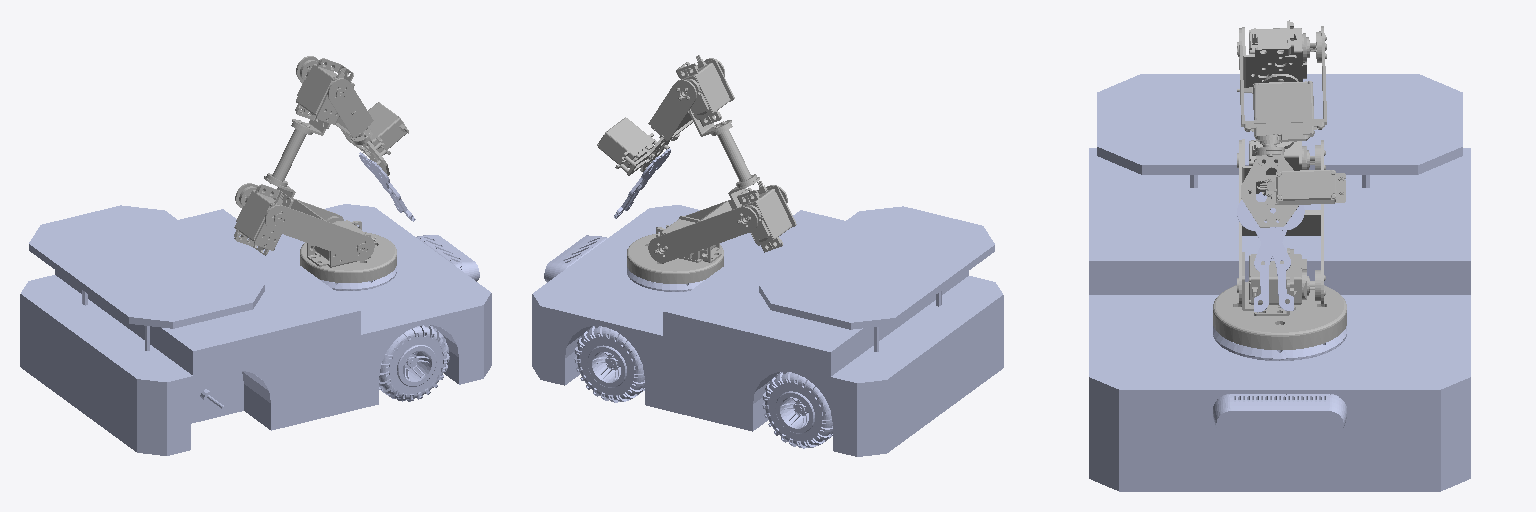
robot.urdf — robot_description:
<?xml version="1.0" encoding="utf-8"?>
<!-- This URDF was automatically created by SolidWorks to URDF Exporter! Originally created by [author] ([email redacted]) 
     Commit Version: 1.6.0-1-g15f4949  Build Version: 1.6.7594.29634
     For more information, please see http://wiki.ros.org/sw_urdf_exporter -->
<robot
  name="robot_description">
  <link
    name="dummy">
    <visual>
      <origin
        xyz="0 0 0"
        rpy="0 0 0" />
      <geometry>
        <mesh
          filename="package://robot_description/meshes/dummy.STL" />
      </geometry>
      <material
        name="">
        <color
          rgba="0.79216 0.81961 0.93333 1" />
      </material>
    </visual>
    <collision>
      <origin
        xyz="0 0 0"
        rpy="0 0 0" />
      <geometry>
        <mesh
          filename="package://robot_description/meshes/dummy.STL" />
      </geometry>
    </collision>
  </link>
  <link
    name="base_link">
    <inertial>
      <origin
        xyz="0.094802 0.023476 0.089613"
        rpy="0 0 0" />
      <mass
        value="0.041621" />
      <inertia
        ixx="2.1209E-05"
        ixy="-1.3206E-10"
        ixz="2.5764E-10"
        iyy="2.3001E-05"
        iyz="8.8145E-09"
        izz="4.3695E-05" />
    </inertial>
    <visual>
      <origin
        xyz="0 0 0"
        rpy="0 0 0" />
      <geometry>
        <mesh
          filename="package://robot_description/meshes/base_link.STL" />
      </geometry>
      <material
        name="">
        <color
          rgba="0.79216 0.81961 0.93333 1" />
      </material>
    </visual>
    <collision>
      <origin
        xyz="0 0 0"
        rpy="0 0 0" />
      <geometry>
        <mesh
          filename="package://robot_description/meshes/base_link.STL" />
      </geometry>
    </collision>
  </link>
  <joint
    name="dummy"
    type="fixed">
    <origin
      xyz="0 0 0"
      rpy="0 0 0" />
    <parent
      link="dummy" />
    <child
      link="base_link" />
    <axis
      xyz="0 0 0" />
  </joint>
  <link
    name="link_1">
    <inertial>
      <origin
        xyz="-0.006455 -0.0026486 0.016101"
        rpy="0 0 0" />
      <mass
        value="0.079808" />
      <inertia
        ixx="2.4245E-05"
        ixy="-3.9646E-08"
        ixz="1.7004E-09"
        iyy="2.9109E-05"
        iyz="4.4379E-07"
        izz="4.9332E-05" />
    </inertial>
    <visual>
      <origin
        xyz="0 0 0"
        rpy="0 0 0" />
      <geometry>
        <mesh
          filename="package://robot_description/meshes/link_1.STL" />
      </geometry>
      <material
        name="">
        <color
          rgba="0.75294 0.75294 0.75294 1" />
      </material>
    </visual>
    <collision>
      <origin
        xyz="0 0 0"
        rpy="0 0 0" />
      <geometry>
        <mesh
          filename="package://robot_description/meshes/link_1.STL" />
      </geometry>
    </collision>
  </link>
  <joint
    name="joint_0"
    type="revolute">
    <origin
      xyz="0.094802 0.02178 0.094485"
      rpy="0 0 0" />
    <parent
      link="base_link" />
    <child
      link="link_1" />
    <axis
      xyz="0 0 1" />
    <limit
      lower="-4.1888"
      upper="0.69813"
      effort="0"
      velocity="0" />
  </joint>
  <link
    name="link_2">
    <inertial>
      <origin
        xyz="-0.0441672955930066 -0.0254999999999995 0.00196123940117489"
        rpy="0 0 0" />
      <mass
        value="0.04759938537894" />
      <inertia
        ixx="3.33319565488529E-05"
        ixy="-6.9117387543481E-06"
        ixz="-2.96183751814742E-21"
        iyy="4.13129450096359E-05"
        iyz="2.78246571699322E-20"
        izz="2.0881605962112E-05" />
    </inertial>
    <visual>
      <origin
        xyz="0 0 0"
        rpy="0 0 0" />
      <geometry>
        <mesh
          filename="package://robot_description/meshes/link_2.STL" />
      </geometry>
      <material
        name="">
        <color
          rgba="0.752941176470588 0.752941176470588 0.752941176470588 1" />
      </material>
    </visual>
    <collision>
      <origin
        xyz="0 0 0"
        rpy="0 0 0" />
      <geometry>
        <mesh
          filename="package://robot_description/meshes/link_2.STL" />
      </geometry>
    </collision>
  </link>
  <joint
    name="joint_1"
    type="revolute">
    <origin
      xyz="-0.0017545 0 0.0249"
      rpy="-1.5708 0 0" />
    <parent
      link="link_1" />
    <child
      link="link_2" />
    <axis
      xyz="0 0 1" />
    <limit
      lower="-0.17453"
      upper="1.7453"
      effort="0"
      velocity="0" />
  </joint>
  <link
    name="link_3">
    <inertial>
      <origin
        xyz="0.0554376610188381 0.00312319498710001 -0.00374536272571629"
        rpy="0 0 0" />
      <mass
        value="0.111344912824329" />
      <inertia
        ixx="1.09688048932566E-05"
        ixy="-1.78460277050349E-09"
        ixz="-9.02393554790872E-08"
        iyy="2.46157246976635E-05"
        iyz="-8.55982045464642E-07"
        izz="2.27017675785582E-05" />
    </inertial>
    <visual>
      <origin
        xyz="0 0 0"
        rpy="0 0 0" />
      <geometry>
        <mesh
          filename="package://robot_description/meshes/link_3.STL" />
      </geometry>
      <material
        name="">
        <color
          rgba="0.752941176470588 0.752941176470588 0.752941176470588 1" />
      </material>
    </visual>
    <collision>
      <origin
        xyz="0 0 0"
        rpy="0 0 0" />
      <geometry>
        <mesh
          filename="package://robot_description/meshes/link_3.STL" />
      </geometry>
    </collision>
  </link>
  <joint
    name="joint_2"
    type="revolute">
    <origin
      xyz="-0.088335 -0.051 0"
      rpy="0 0 -1.0472" />
    <parent
      link="link_2" />
    <child
      link="link_3" />
    <axis
      xyz="0 0 1" />
    <limit
      lower="-1.5"
      upper="1.12"
      effort="0"
      velocity="0" />
  </joint>
  <link
    name="link_4">
    <inertial>
      <origin
        xyz="-0.0176379229960773 0.0305437128442724 0.00159557678617681"
        rpy="0 0 0" />
      <mass
        value="0.0508687992629349" />
      <inertia
        ixx="2.36967919956933E-05"
        ixy="2.48979389762864E-06"
        ixz="-1.97394708975074E-08"
        iyy="2.08307216385514E-05"
        iyz="3.41880636763051E-08"
        izz="9.91099451712242E-06" />
    </inertial>
    <visual>
      <origin
        xyz="0 0 0"
        rpy="0 0 0" />
      <geometry>
        <mesh
          filename="package://robot_description/meshes/link_4.STL" />
      </geometry>
      <material
        name="">
        <color
          rgba="0.752941176470588 0.752941176470588 0.752941176470588 1" />
      </material>
    </visual>
    <collision>
      <origin
        xyz="0 0 0"
        rpy="0 0 0" />
      <geometry>
        <mesh
          filename="package://robot_description/meshes/link_4.STL" />
      </geometry>
    </collision>
  </link>
  <joint
    name="joint_3"
    type="revolute">
    <origin
      xyz="0.13051 0 0"
      rpy="0.033013 0 0" />
    <parent
      link="link_3" />
    <child
      link="link_4" />
    <axis
      xyz="0 0 1" />
    <limit
      lower="-2.5"
      upper="0.17"
      effort="0"
      velocity="0" />
  </joint>
  <link
    name="link_5">
    <inertial>
      <origin
        xyz="0.000145826433482737 0.00572759346298343 0.0249754325019977"
        rpy="0 0 0" />
      <mass
        value="0.0397478662209852" />
      <inertia
        ixx="4.82308554751759E-06"
        ixy="-5.41076945991279E-08"
        ixz="-2.14243371035978E-06"
        iyy="6.53212892558204E-06"
        iyz="4.8597350438789E-07"
        izz="4.2080310033455E-06" />
    </inertial>
    <visual>
      <origin
        xyz="0 0 0"
        rpy="0 0 0" />
      <geometry>
        <mesh
          filename="package://robot_description/meshes/link_5.STL" />
      </geometry>
      <material
        name="">
        <color
          rgba="0.752941176470588 0.752941176470588 0.752941176470588 1" />
      </material>
    </visual>
    <collision>
      <origin
        xyz="0 0 0"
        rpy="0 0 0" />
      <geometry>
        <mesh
          filename="package://robot_description/meshes/link_5.STL" />
      </geometry>
    </collision>
  </link>
  <joint
    name="joint_4"
    type="revolute">
    <origin
      xyz="-0.043854 0.075958 -0.008714"
      rpy="-0.11661 -0.71223 -1.8407" />
    <parent
      link="link_4" />
    <child
      link="link_5" />
    <axis
      xyz="0.53086 0.7613 -0.37231" />
    <limit
      lower="-0.1"
      upper="0.1"
      effort="0"
      velocity="0" />
  </joint>
  <link
    name="link_51">
    <inertial>
      <origin
        xyz="0.0274973854492597 0.00666645635188887 -0.00274999999999825"
        rpy="0 0 0" />
      <mass
        value="0.00141569349834304" />
      <inertia
        ixx="2.12882327783662E-07"
        ixy="-2.23055006855443E-08"
        ixz="-7.42187804613204E-22"
        iyy="4.99683964313318E-08"
        iyz="-4.00355416475665E-22"
        izz="2.61906928549432E-07" />
    </inertial>
    <visual>
      <origin
        xyz="0 0 0"
        rpy="0 0 0" />
      <geometry>
        <mesh
          filename="package://robot_description/meshes/link_51.STL" />
      </geometry>
      <material
        name="">
        <color
          rgba="0.792156862745098 0.819607843137255 0.933333333333333 1" />
      </material>
    </visual>
    <collision>
      <origin
        xyz="0 0 0"
        rpy="0 0 0" />
      <geometry>
        <mesh
          filename="package://robot_description/meshes/link_51.STL" />
      </geometry>
    </collision>
  </link>
  <joint
    name="joint_5"
    type="revolute">
    <origin
      xyz="0.0061729 -0.0095263 0.010922"
      rpy="0.60214 0.85354 3.0106" />
    <parent
      link="link_5" />
    <child
      link="link_51" />
    <axis
      xyz="0 0 1" />
    <limit
      lower="0.1"
      upper="0.92"
      effort="0"
      velocity="0" />
  </joint>
  <link
    name="link_52">
    <inertial>
      <origin
        xyz="0.0273537886684804 0.0226207279404789 0.00150000000000955"
        rpy="0 0 0" />
      <mass
        value="0.00148390327012937" />
      <inertia
        ixx="4.30795368940953E-07"
        ixy="8.24295843502233E-08"
        ixz="-5.36426627240638E-22"
        iyy="3.23578805228052E-08"
        iyz="1.86363792008197E-21"
        izz="4.60927394558564E-07" />
    </inertial>
    <visual>
      <origin
        xyz="0 0 0"
        rpy="0 0 0" />
      <geometry>
        <mesh
          filename="package://robot_description/meshes/link_52.STL" />
      </geometry>
      <material
        name="">
        <color
          rgba="0.792156862745098 0.819607843137255 0.933333333333333 1" />
      </material>
    </visual>
    <collision>
      <origin
        xyz="0 0 0"
        rpy="0 0 0" />
      <geometry>
        <mesh
          filename="package://robot_description/meshes/link_52.STL" />
      </geometry>
    </collision>
  </link>
  <joint
    name="joint_51"
    type="revolute">
    <origin
      xyz="-0.0036089 0.030839 -0.00175"
      rpy="0 0 0" />
    <parent
      link="link_51" />
    <child
      link="link_52" />
    <axis
      xyz="0 0 -1" />
    <limit
      lower="0.1"
      upper="0.92"
      effort="0"
      velocity="0" />
    <mimic
      joint="joint_5"
      multiplier="1"
      offset="0" />
  </joint>
  <link
    name="link_53">
    <inertial>
      <origin
        xyz="-0.0275517174404179 0.00686942071701245 -0.0010000000000093"
        rpy="0 0 0" />
      <mass
        value="0.00137328199751958" />
      <inertia
        ixx="2.10770882639421E-07"
        ixy="2.30360067045727E-08"
        ixz="-1.54682774547416E-22"
        iyy="5.00701284621878E-08"
        iyz="9.42985898310452E-22"
        izz="2.59925489769929E-07" />
    </inertial>
    <visual>
      <origin
        xyz="0 0 0"
        rpy="0 0 0" />
      <geometry>
        <mesh
          filename="package://robot_description/meshes/link_53.STL" />
      </geometry>
      <material
        name="">
        <color
          rgba="0.792156862745098 0.819607843137255 0.933333333333333 1" />
      </material>
    </visual>
    <collision>
      <origin
        xyz="0 0 0"
        rpy="0 0 0" />
      <geometry>
        <mesh
          filename="package://robot_description/meshes/link_53.STL" />
      </geometry>
    </collision>
  </link>
  <joint
    name="joint_53"
    type="revolute">
    <origin
      xyz="-0.0105213588774655 -0.00832612259373461 -0.0104276575228075"
      rpy="0.602136293756852 0.853540316865174 3.01057033246525" />
    <parent
      link="link_5" />
    <child
      link="link_53" />
    <axis
      xyz="0 0 -1" />
    <limit
      lower="0.1"
      upper="0.92"
      effort="0"
      velocity="0" />
    <mimic
      joint="joint_5"
      multiplier="1"
      offset="0" />
  </joint>
  <link
    name="link_54">
    <inertial>
      <origin
        xyz="-0.027579568289924 0.0226489633076726 0.00149999999999034"
        rpy="0 0 0" />
      <mass
        value="0.00148390327012937" />
      <inertia
        ixx="4.32400053087531E-07"
        ixy="-7.84391167968696E-08"
        ixz="-5.04580173657347E-23"
        iyy="3.07531963762263E-08"
        iyz="-1.24077091882954E-23"
        izz="4.60927394558563E-07" />
    </inertial>
    <visual>
      <origin
        xyz="0 0 0"
        rpy="0 0 0" />
      <geometry>
        <mesh
          filename="package://robot_description/meshes/link_54.STL" />
      </geometry>
      <material
        name="">
        <color
          rgba="0.792156862745098 0.819607843137255 0.933333333333333 1" />
      </material>
    </visual>
    <collision>
      <origin
        xyz="0 0 0"
        rpy="0 0 0" />
      <geometry>
        <mesh
          filename="package://robot_description/meshes/link_54.STL" />
      </geometry>
    </collision>
  </link>
  <joint
    name="joint_54"
    type="revolute">
    <origin
      xyz="0.00344200446641575 0.0308579332581169 0"
      rpy="0 0 0" />
    <parent
      link="link_53" />
    <child
      link="link_54" />
    <axis
      xyz="0 0 1" />
    <limit
      lower="0.1"
      upper="0.92"
      effort="0"
      velocity="0" />
    <mimic
      joint="joint_5"
      multiplier="1"
      offset="0" />
  </joint>
  <link
    name="wh_fl">
    <inertial>
      <origin
        xyz="1.2461E-09 -5.444E-09 -0.020213"
        rpy="0 0 0" />
      <mass
        value="0.072755" />
      <inertia
        ixx="4.1437E-05"
        ixy="2.2475E-13"
        ixz="-5.4568E-11"
        iyy="4.1437E-05"
        iyz="3.9178E-11"
        izz="6.0865E-05" />
    </inertial>
    <visual>
      <origin
        xyz="0 0 0"
        rpy="0 0 0" />
      <geometry>
        <mesh
          filename="package://robot_description/meshes/wh_fl.STL" />
      </geometry>
      <material
        name="">
        <color
          rgba="0.79216 0.81961 0.93333 1" />
      </material>
    </visual>
    <collision>
      <origin
        xyz="0 0 0"
        rpy="0 0 0" />
      <geometry>
        <mesh
          filename="package://robot_description/meshes/wh_fl.STL" />
      </geometry>
    </collision>
  </link>
  <joint
    name="joint_fl"
    type="continuous">
    <origin
      xyz="0.0963024280776692 0.105267807682509 0.0379849148150617"
      rpy="1.5707963267949 1.5707963267949 0" />
    <parent
      link="base_link" />
    <child
      link="wh_fl" />
    <axis
      xyz="0 0 1" />
  </joint>
  <link
    name="wh_fr">
    <inertial>
      <origin
        xyz="1.24612446750216E-09 5.44468690966138E-09 0.0202134707623578"
        rpy="0 0 0" />
      <mass
        value="0.0727548969707371" />
      <inertia
        ixx="4.14370643466436E-05"
        ixy="-2.24304743032627E-13"
        ixz="5.4568370513912E-11"
        iyy="4.1437065416982E-05"
        iyz="3.91778084305756E-11"
        izz="6.08652668920378E-05" />
    </inertial>
    <visual>
      <origin
        xyz="0 0 0"
        rpy="0 0 0" />
      <geometry>
        <mesh
          filename="package://robot_description/meshes/wh_fr.STL" />
      </geometry>
      <material
        name="">
        <color
          rgba="0.792156862745098 0.819607843137255 0.933333333333333 1" />
      </material>
    </visual>
    <collision>
      <origin
        xyz="0 0 0"
        rpy="0 0 0" />
      <geometry>
        <mesh
          filename="package://robot_description/meshes/wh_fr.STL" />
      </geometry>
    </collision>
  </link>
  <joint
    name="joint_fr"
    type="continuous">
    <origin
      xyz="0.0963024280776703 -0.0617069066648054 0.0379849148150617"
      rpy="1.57079632679489 1.5707963267949 0" />
    <parent
      link="base_link" />
    <child
      link="wh_fr" />
    <axis
      xyz="0 0 1" />
  </joint>
  <link
    name="wh_br">
    <inertial>
      <origin
        xyz="1.2461E-09 5.4447E-09 0.020213"
        rpy="0 0 0" />
      <mass
        value="0.072755" />
      <inertia
        ixx="4.1437E-05"
        ixy="-2.243E-13"
        ixz="5.4568E-11"
        iyy="4.1437E-05"
        iyz="3.9178E-11"
        izz="6.0865E-05" />
    </inertial>
    <visual>
      <origin
        xyz="0 0 0"
        rpy="0 0 0" />
      <geometry>
        <mesh
          filename="package://robot_description/meshes/wh_br.STL" />
      </geometry>
      <material
        name="">
        <color
          rgba="0.79216 0.81961 0.93333 1" />
      </material>
    </visual>
    <collision>
      <origin
        xyz="0 0 0"
        rpy="0 0 0" />
      <geometry>
        <mesh
          filename="package://robot_description/meshes/wh_br.STL" />
      </geometry>
    </collision>
  </link>
  <joint
    name="joint_br"
    type="continuous">
    <origin
      xyz="-0.10369757192233 -0.0617069066648075 0.0379849148150618"
      rpy="1.57079632679489 1.5707963267949 0" />
    <parent
      link="base_link" />
    <child
      link="wh_br" />
    <axis
      xyz="0 0 1" />
  </joint>
  <link
    name="wh_bl">
    <inertial>
      <origin
        xyz="1.24651658092723E-09 -5.44738676389045E-09 -0.0202134707646456"
        rpy="0 0 0" />
      <mass
        value="0.0727548969777271" />
      <inertia
        ixx="4.14370643514696E-05"
        ixy="2.24604330069228E-13"
        ixz="-5.45680690220501E-11"
        iyy="4.14370654188499E-05"
        iyz="3.91752883076733E-11"
        izz="6.08652668947899E-05" />
    </inertial>
    <visual>
      <origin
        xyz="0 0 0"
        rpy="0 0 0" />
      <geometry>
        <mesh
          filename="package://robot_description/meshes/wh_bl.STL" />
      </geometry>
      <material
        name="">
        <color
          rgba="0.792156862745098 0.819607843137255 0.933333333333333 1" />
      </material>
    </visual>
    <collision>
      <origin
        xyz="0 0 0"
        rpy="0 0 0" />
      <geometry>
        <mesh
          filename="package://robot_description/meshes/wh_bl.STL" />
      </geometry>
    </collision>
  </link>
  <joint
    name="joint_bl"
    type="continuous">
    <origin
      xyz="-0.103697571922331 0.105267807682509 0.0379849148150615"
      rpy="1.5707963267949 1.5707963267949 0" />
    <parent
      link="base_link" />
    <child
      link="wh_bl" />
    <axis
      xyz="0 0 1" />
  </joint>
  <link
    name="camera_link">
    <inertial>
      <origin
        xyz="-0.013048499559092 0.000246197944511112 -6.05670440417191E-05"
        rpy="0 0 0" />
      <mass
        value="0.0447521991262699" />
      <inertia
        ixx="2.7277525325308E-05"
        ixy="2.44341503420267E-07"
        ixz="-1.17387243420198E-09"
        iyy="3.94471790856199E-06"
        iyz="-2.80091941881806E-09"
        izz="2.73620891189281E-05" />
    </inertial>
    <visual>
      <origin
        xyz="0 0 0"
        rpy="0 0 0" />
      <geometry>
        <mesh
          filename="package://robot_description/meshes/camera_link.STL" />
      </geometry>
      <material
        name="">
        <color
          rgba="0.792156862745098 0.819607843137255 0.933333333333333 1" />
      </material>
    </visual>
    <collision>
      <origin
        xyz="0 0 0"
        rpy="0 0 0" />
      <geometry>
        <mesh
          filename="package://robot_description/meshes/camera_link.STL" />
      </geometry>
    </collision>
  </link>
  <joint
    name="camera_joint"
    type="fixed">
    <origin
      xyz="0.209802428077669 0.0217804505088517 0.0713934534411303"
      rpy="0 0 0" />
    <parent
      link="base_link" />
    <child
      link="camera_link" />
    <axis
      xyz="0 0 0" />
  </joint>
</robot>

--- Facts derived from the render (not from the file) ---
3 views of the same robot in one strip: view 1: azimuth 30°, elevation 25°; view 2: azimuth 150°, elevation 25°; view 3: azimuth 270°, elevation 25° (orthographic).
Robot: robot_description — 16 links, 15 joints (9 revolute, 4 continuous, 2 fixed); root link dummy; default pose: all joints at 0 but 4 set to mid-range because 0 is outside their limits (joint_5 = 0.51, joint_51 = 0.51, joint_53 = 0.51, joint_54 = 0.51).
Visible links, largest first — view 1: dummy, link_3, wh_fr, link_2, link_1, link_5, link_4, camera_link, base_link; view 2: dummy, link_3, wh_bl, wh_fl, link_2, link_1, link_5, link_4, camera_link, base_link; view 3: dummy, link_1, camera_link, link_5, link_4, link_3, link_2, base_link, link_54, link_52.
Boxes of the visible links, <box> form: dummy: <box>20,204,491,455</box>; link_3: <box>234,58,354,255</box>; wh_fr: <box>379,325,449,401</box>; link_2: <box>235,183,374,260</box>; link_1: <box>300,220,396,282</box>; link_5: <box>341,102,408,175</box>; link_4: <box>296,56,373,137</box>; camera_link: <box>416,235,479,281</box>; base_link: <box>319,266,396,290</box>; dummy: <box>532,205,1003,456</box>; link_3: <box>676,55,796,252</box>; wh_bl: <box>762,372,832,448</box>; wh_fl: <box>574,326,644,402</box>; link_2: <box>648,185,787,262</box>; link_1: <box>627,216,723,283</box>; link_5: <box>597,117,679,175</box>; link_4: <box>648,58,724,140</box>; camera_link: <box>544,235,607,282</box>; base_link: <box>627,267,704,291</box>; dummy: <box>1089,74,1470,491</box>; link_1: <box>1213,248,1346,349</box>; camera_link: <box>1213,394,1346,437</box>; link_5: <box>1241,145,1345,227</box>; link_4: <box>1237,26,1326,144</box>; link_3: <box>1242,20,1315,198</box>; link_2: <box>1237,140,1325,305</box>; base_link: <box>1213,326,1346,360</box>; link_54: <box>1254,222,1282,312</box>; link_52: <box>1260,222,1293,310</box>.
Bounding box of the posed robot: 0.402 × 0.255 × 0.3043 m (x, y, z).
15 mesh visuals loaded from 16 distinct referenced files (15 binary STL); not drawn: 1 (reference not matched to a file when rendering).